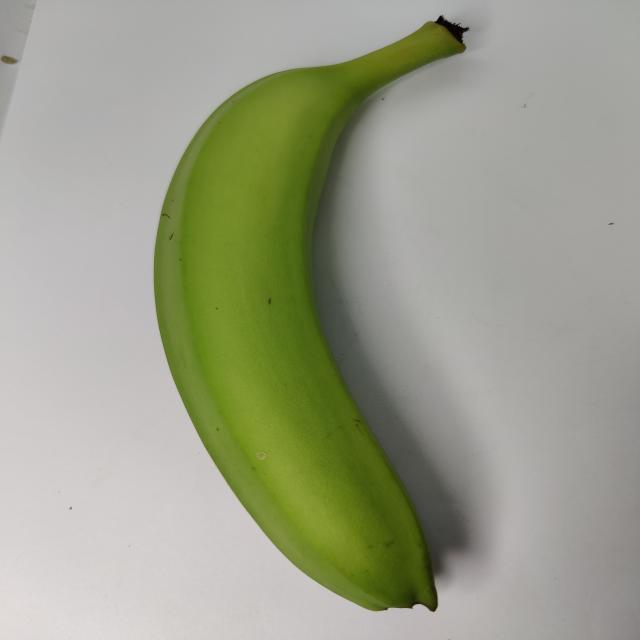raw: (122, 11, 540, 620)
